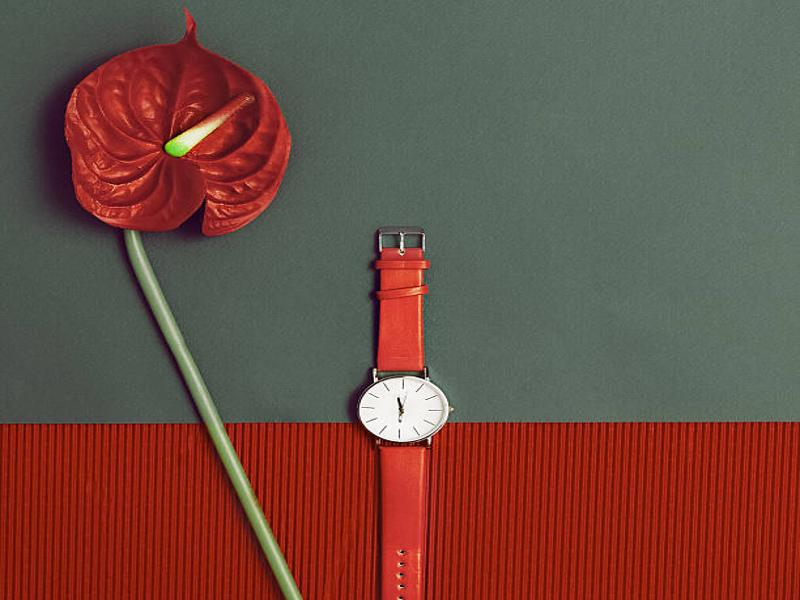watch: (351, 227, 454, 600)
